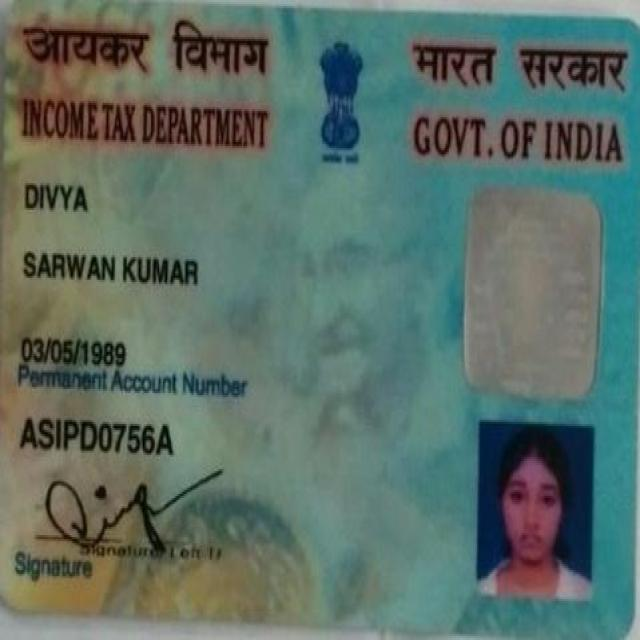pan_card: (1, 2, 634, 640)
